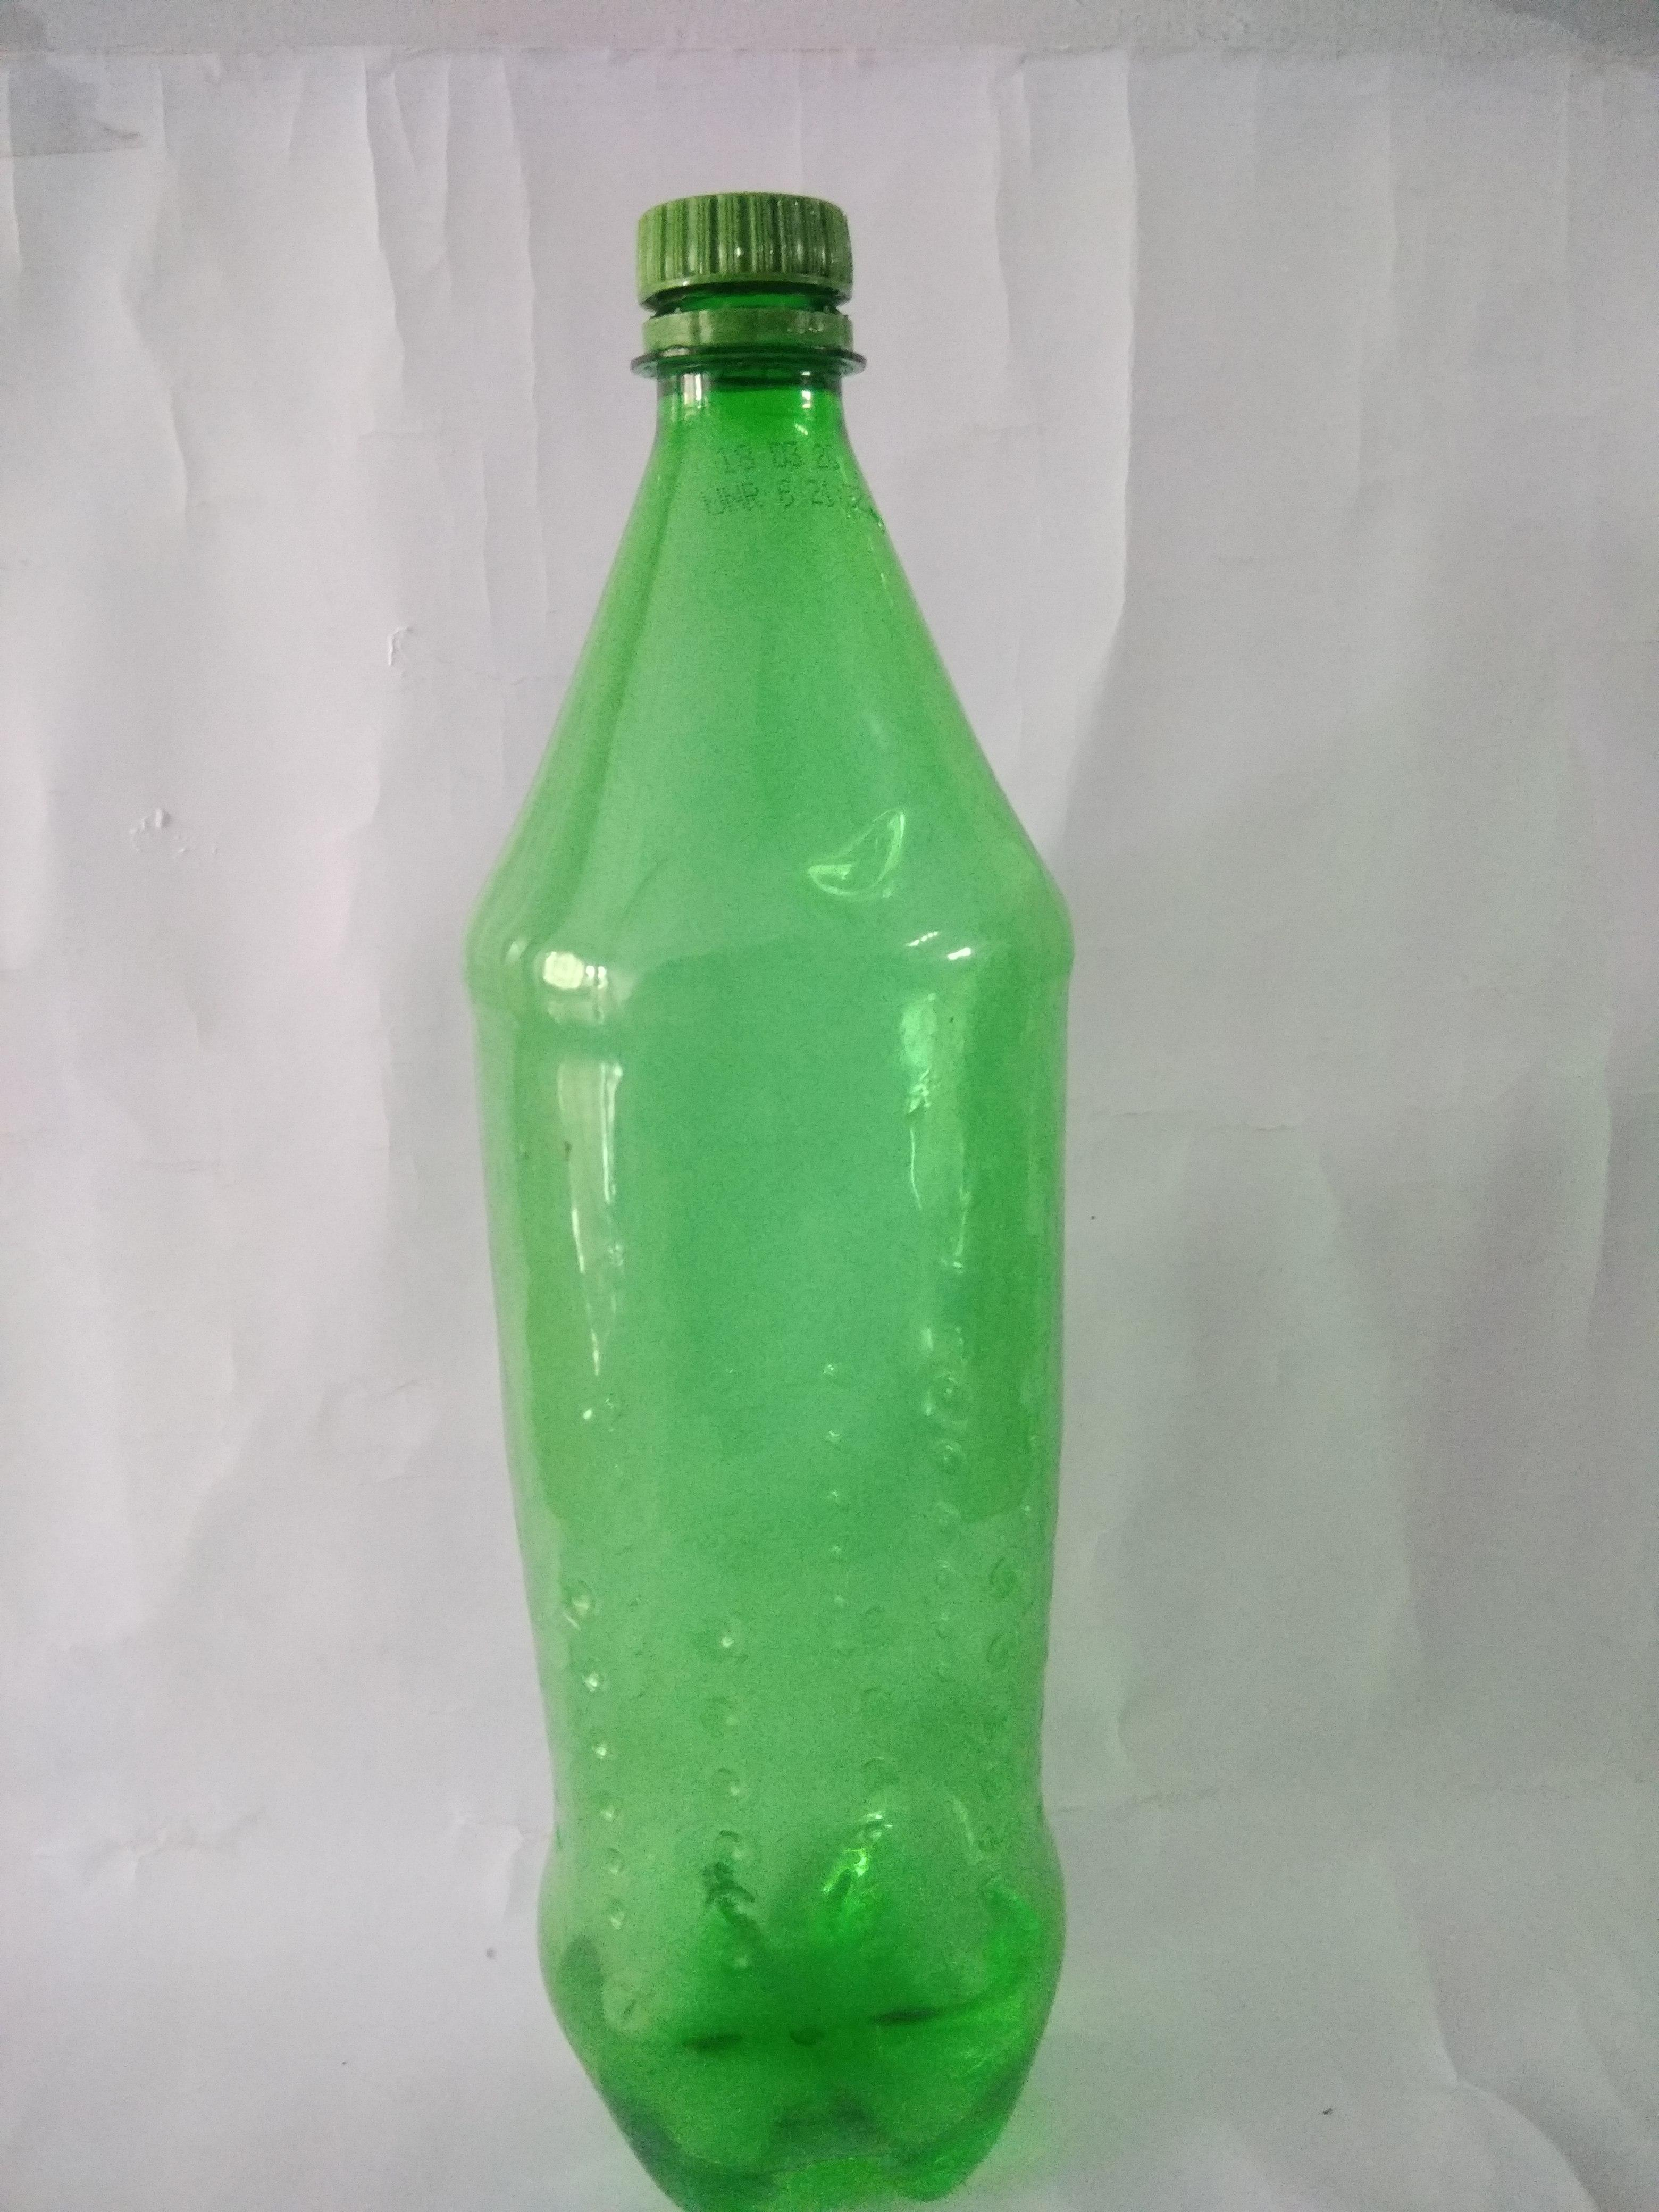HDPE: (624, 192, 857, 347)
PETE: (462, 352, 1072, 2212)
